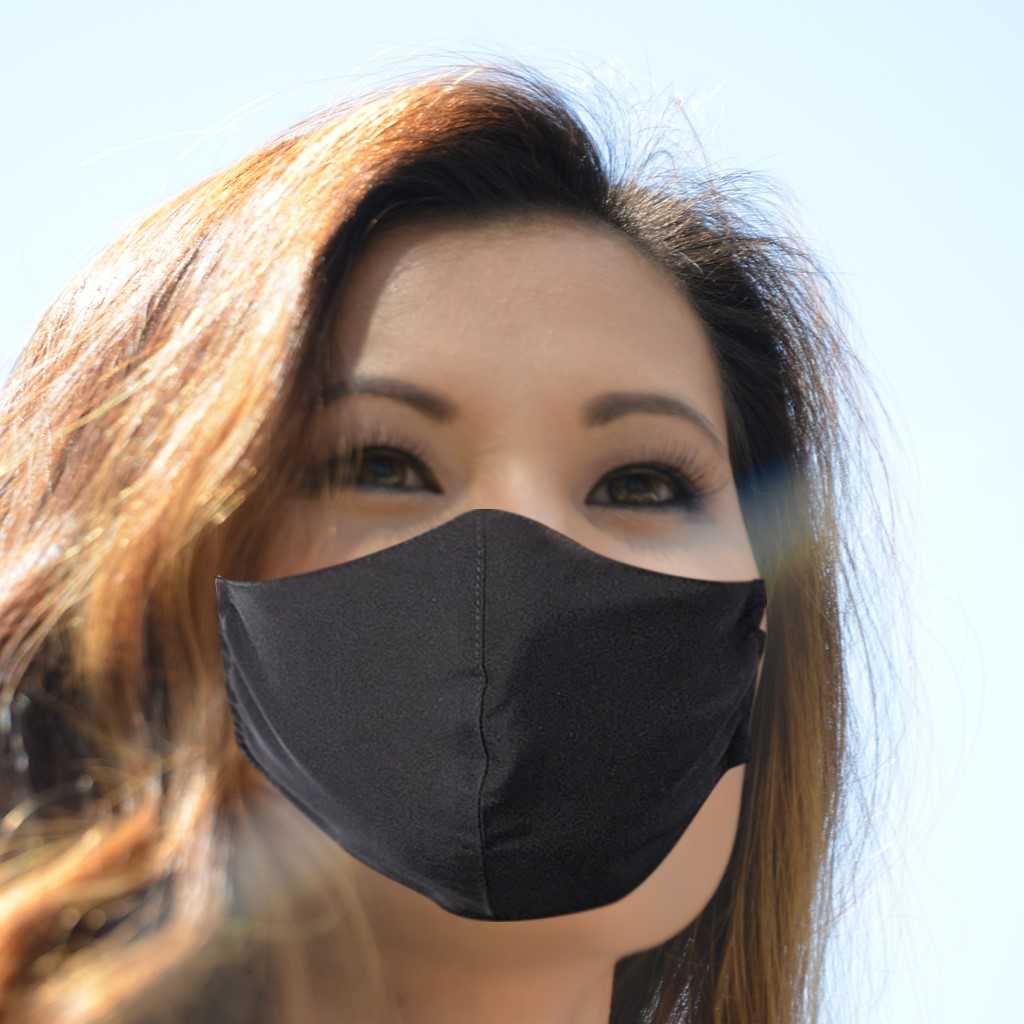con_mascara: (213, 154, 790, 986)
